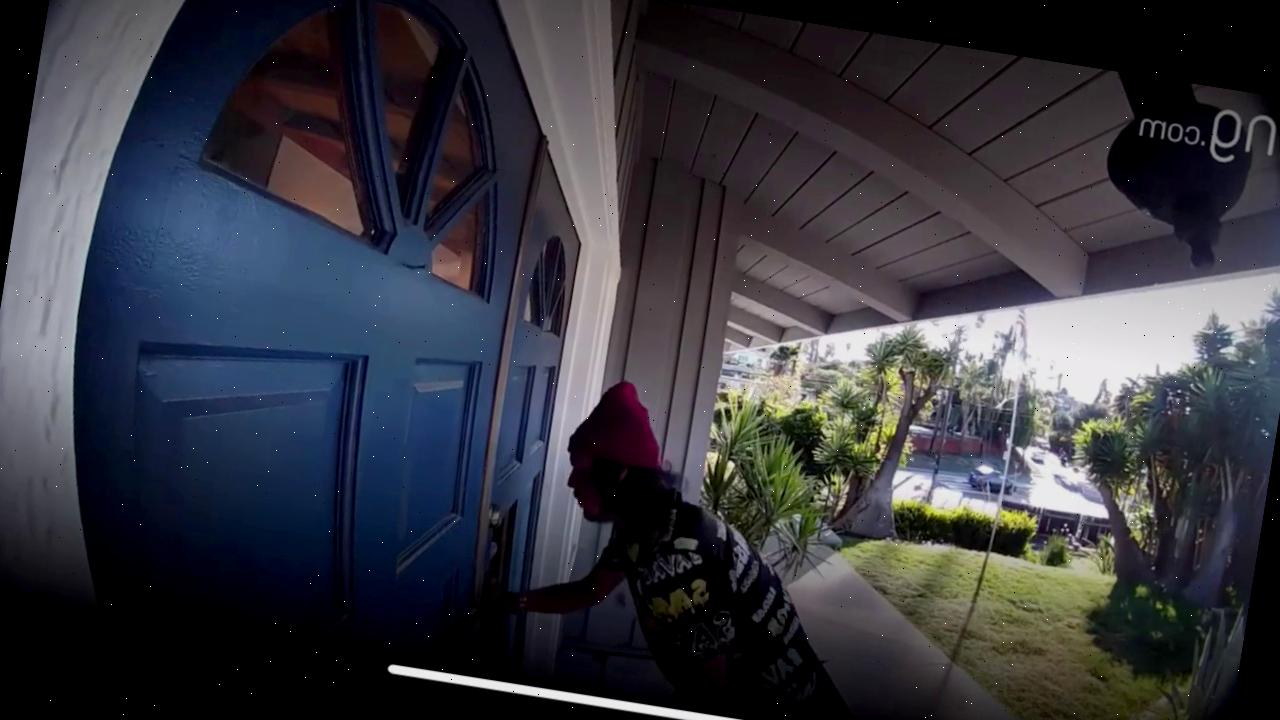suspicion: (429, 357, 893, 720)
